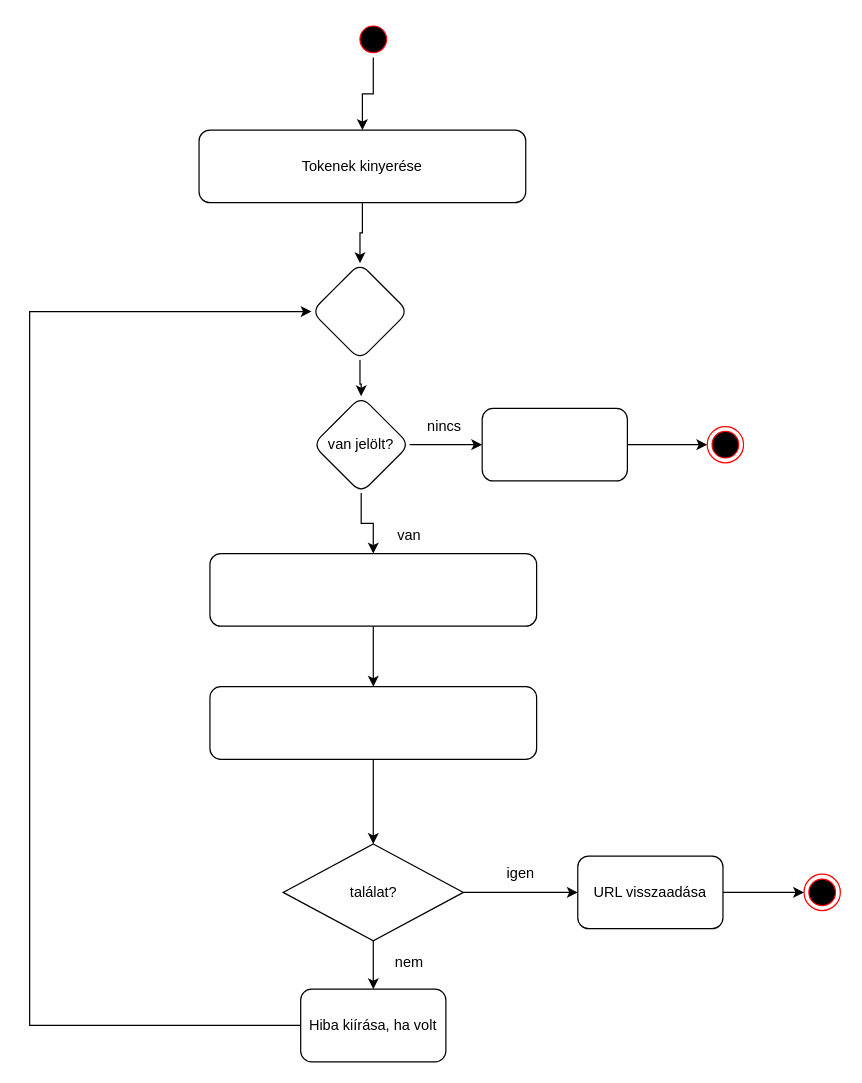
This 862x1083 diagram has some shape labels left out. Each missing label, with the box of its shape:
Kérés küldése (_keres): (209, 685, 537, 759)
RuntimeError: (481, 407, 627, 481)
URL összeállítása a sablonból: (209, 552, 537, 626)
